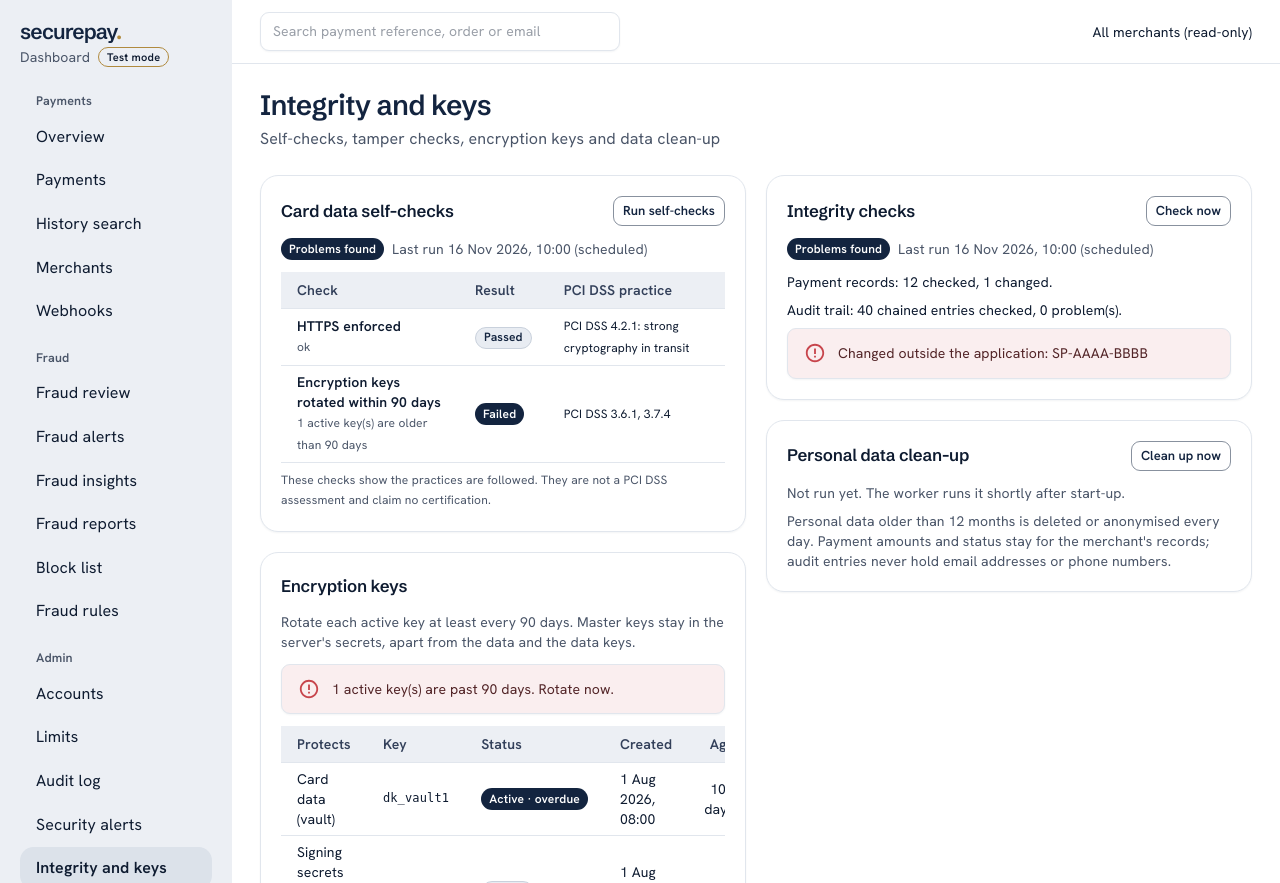
Scenario: integrity and keys › runs the clean-up on demand
This screenshot has width=1280, height=883.
Click the button "Clean up now": coordinates (1181, 456) [1131,440,1231,471]
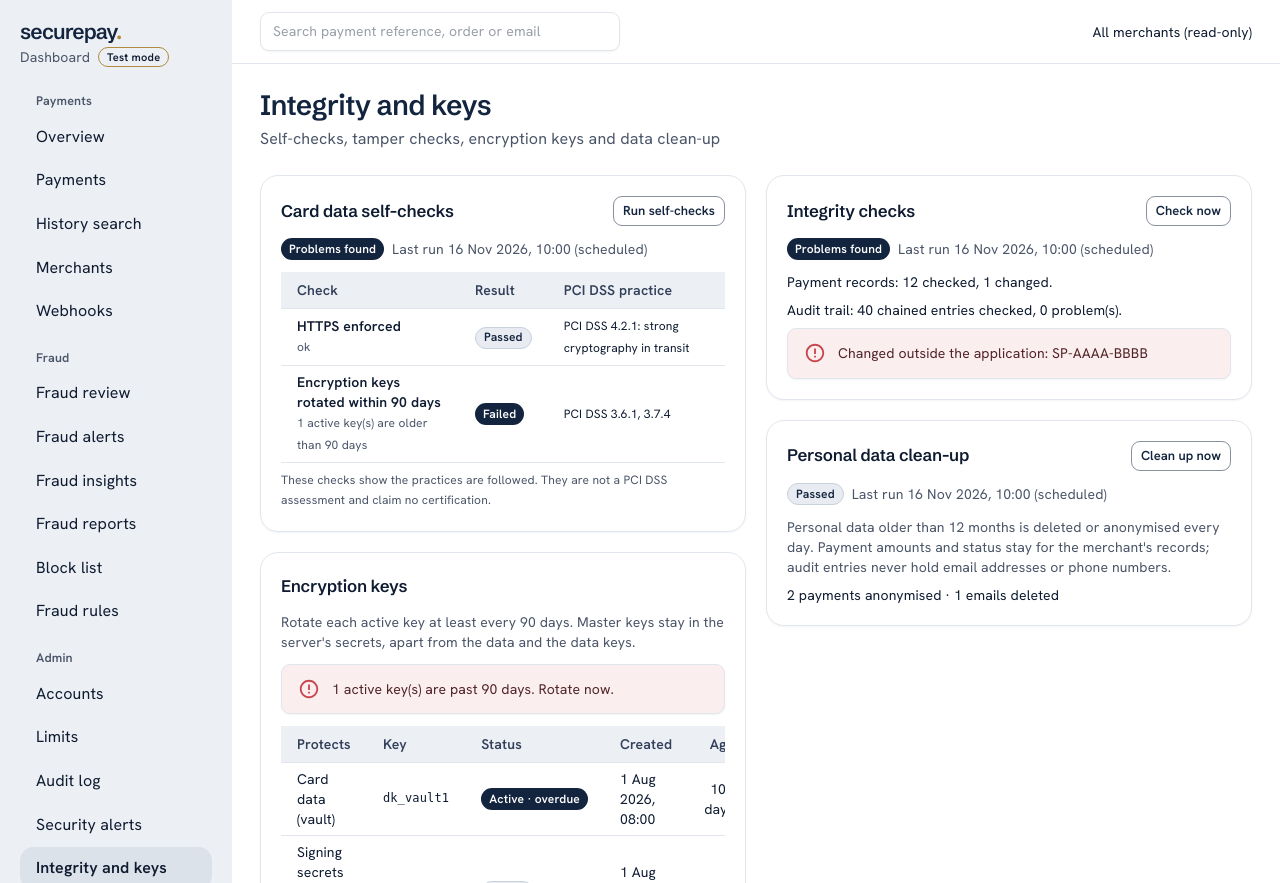
Expected: the text "2 payments anonymised · 1 emails deleted" is shown, [787,586,1059,604]
